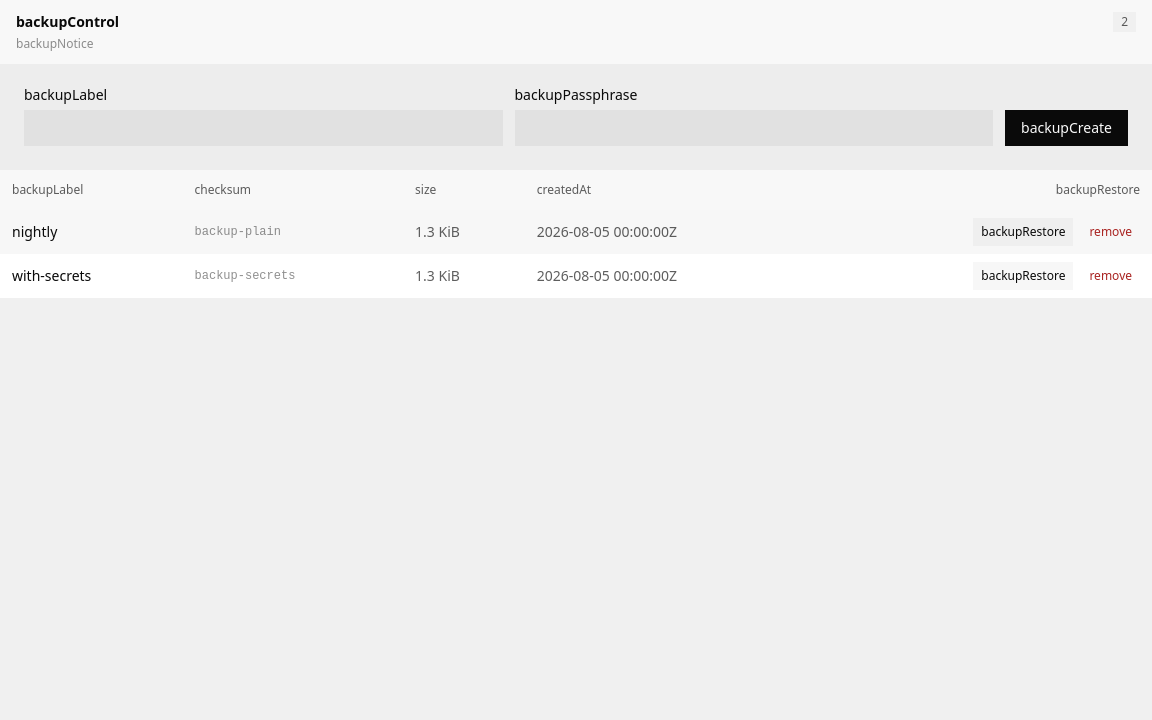
BackupWidget 복구 다이얼로그 › 시크릿을 포함한 백업이면 암호 입력을 보여준다
The image size is (1152, 720).
Click the button "backupRestore" in the row of "with-secrets": (1023, 276) [973,262,1073,290]
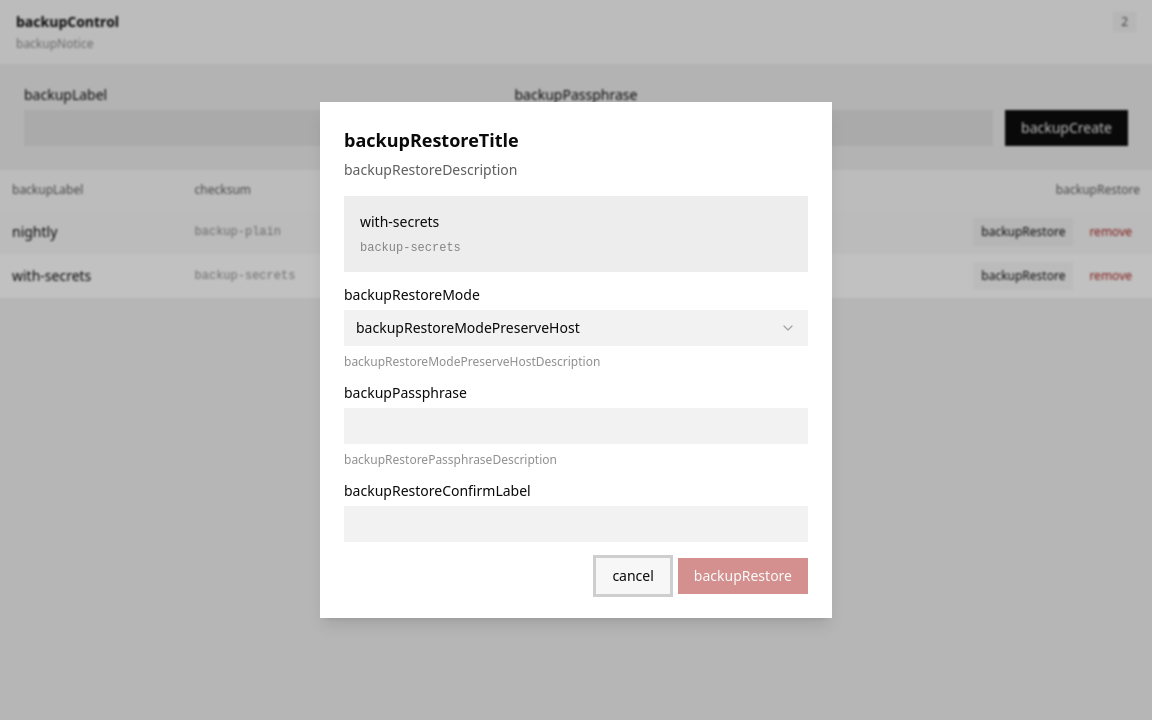
Now the heading "backupRestoreTitle" is shown, box [344,126,519,154]
